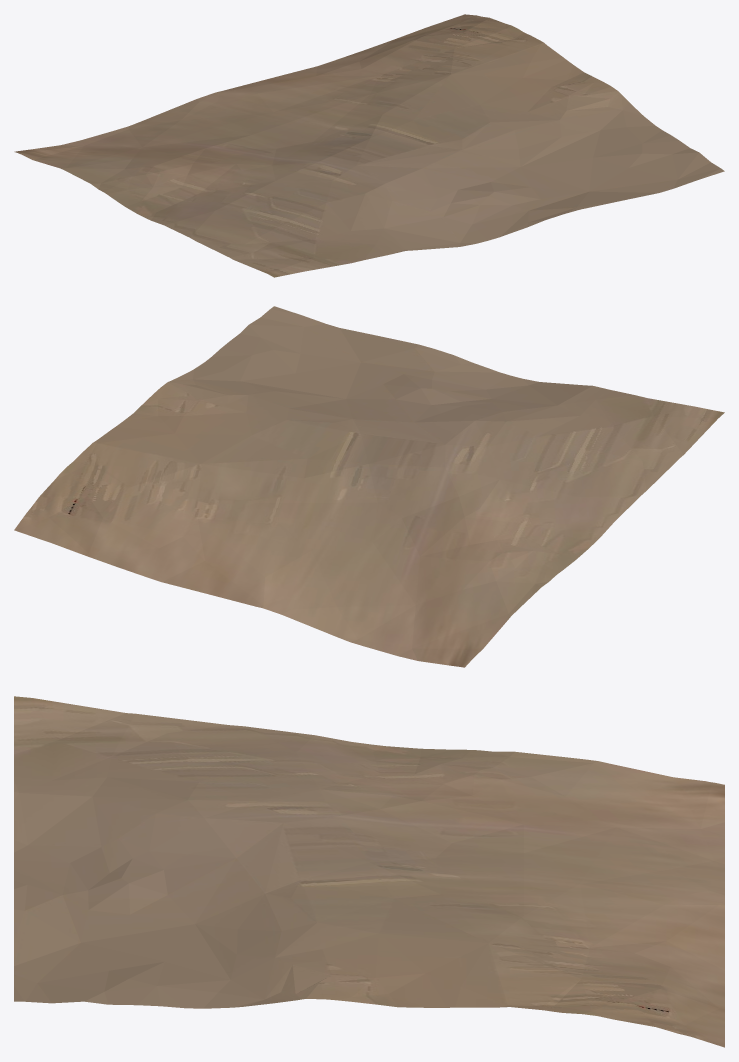
The picture shows the model from 3 angles, top to bottom: view 1: azimuth 30°, elevation 25°; view 2: azimuth 150°, elevation 25°; view 3: azimuth 270°, elevation 25°; orthographic projection. The views are drawn at different scales.
Size of the model in its own units: 1.04 by 0.1539 by 1.04.
Materials: 3 (3 with a texture image).
